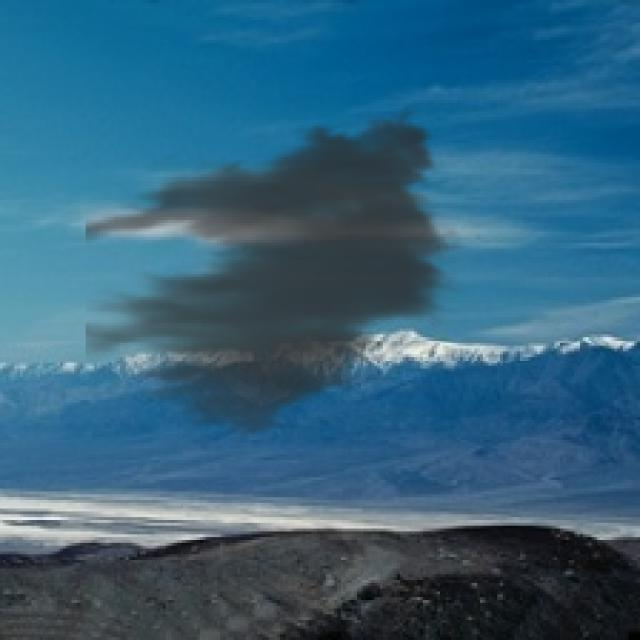smoke: (86, 100, 468, 446)
